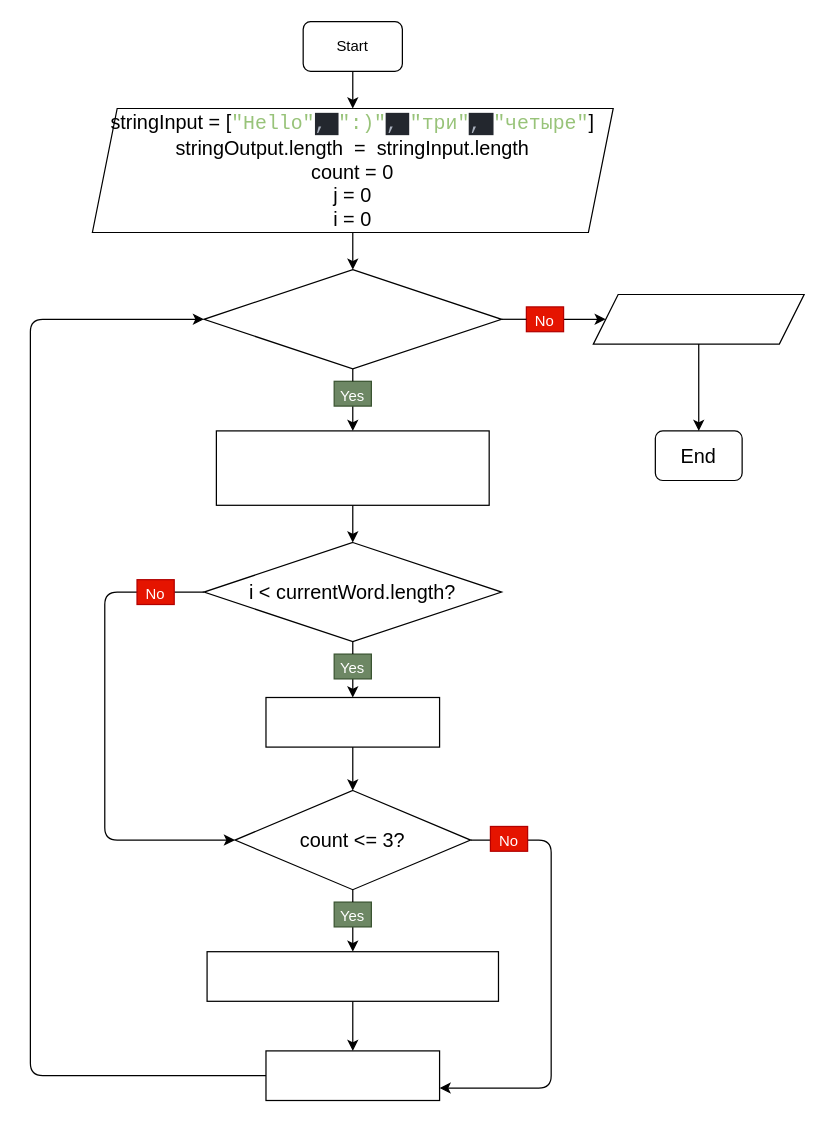
Image size: 826x1122. Some labels were removed from this diagram. Each missing label, with the box of its shape:
count = 0: (265, 1050, 440, 1100)
count = count + 1: (265, 696, 440, 747)
currentWord = stringInput(j): (215, 430, 489, 505)
j < stringInput.length?: (203, 268, 502, 369)
print (stringOutput): (592, 293, 804, 344)
stringOutput(j) = stringInput(j): (206, 950, 498, 1001)
